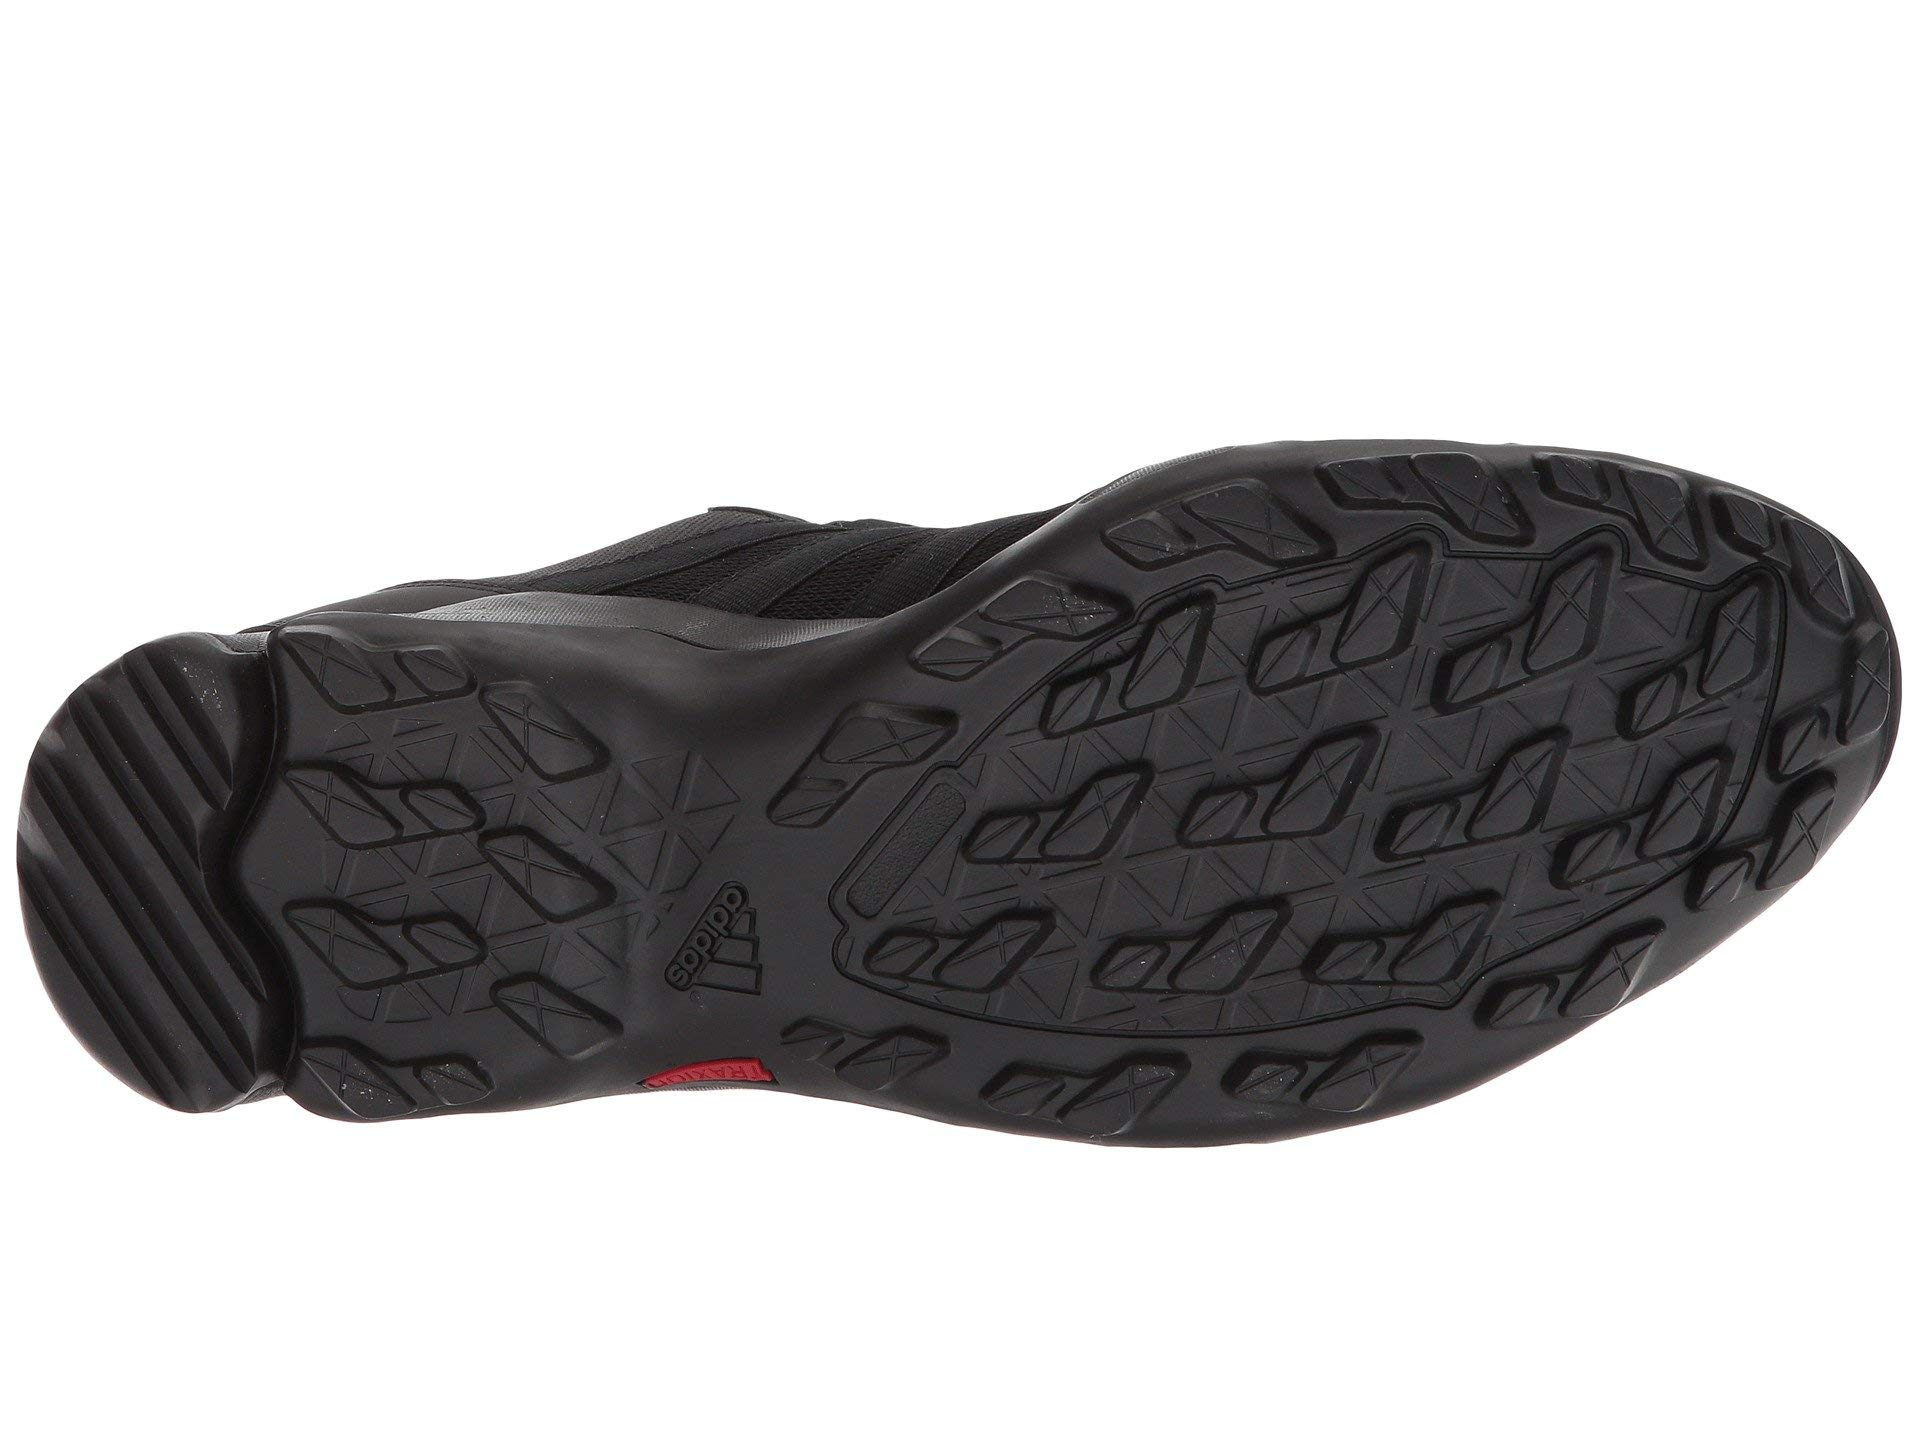circle: (665, 871, 768, 1007)
line: (39, 706, 209, 1059)
quad: (1072, 495, 1705, 1018), (299, 641, 591, 1069), (665, 871, 768, 1007)
text: (665, 871, 768, 1007)
triangle: (1072, 495, 1705, 1018), (299, 641, 591, 1069)
